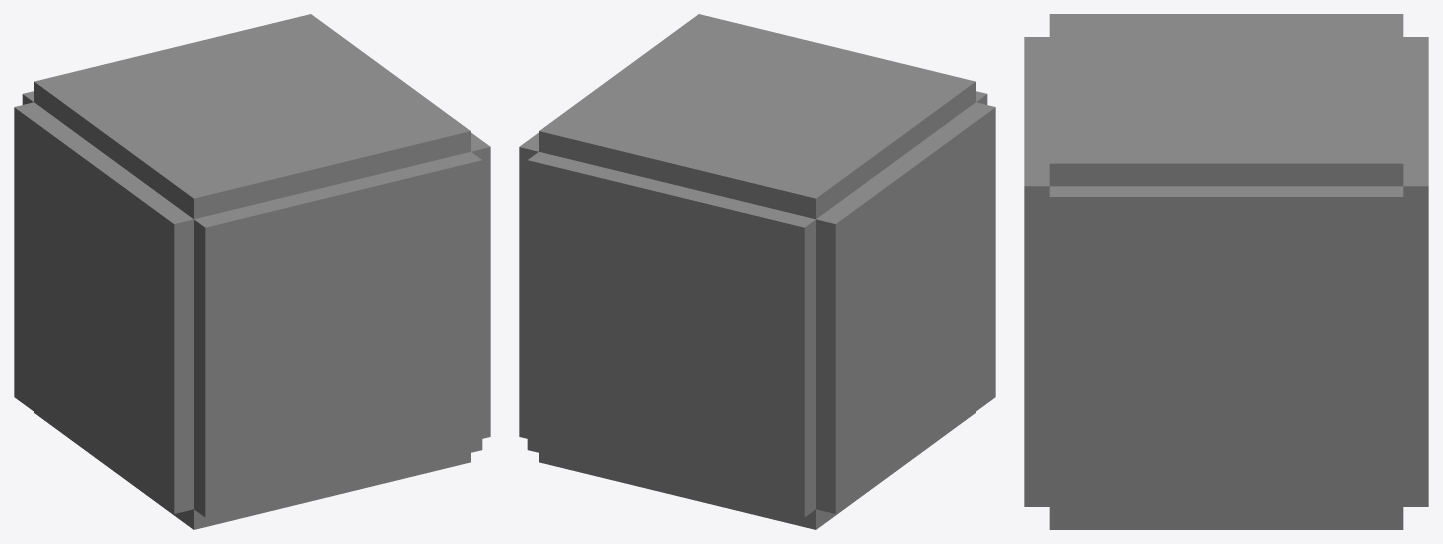
File: blocog.obj
The picture shows the model from 3 angles, left to right: view 1: azimuth 30°, elevation 25°; view 2: azimuth 150°, elevation 25°; view 3: azimuth 270°, elevation 25°; orthographic projection. The views are drawn at different scales.
Visible parts, largest first — view 1: ObjObject.001; view 2: ObjObject.001; view 3: ObjObject.001.
Part boxes in pixels (<box>): ObjObject.001: <box>14,14,490,529</box>; ObjObject.001: <box>519,14,995,529</box>; ObjObject.001: <box>1024,14,1428,529</box>.
Size of the model in its own units: 1 by 1 by 1.
Materials: 1 (1 with a texture image).
